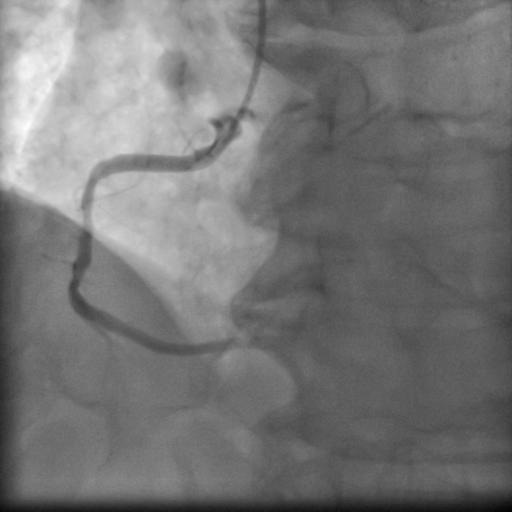Stenosis: (70, 171, 103, 286)
